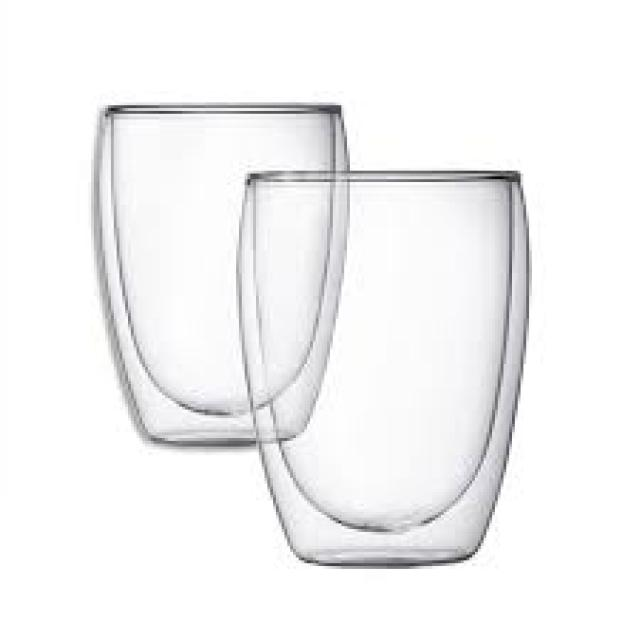glass: (231, 168, 527, 563), (91, 103, 344, 447)
